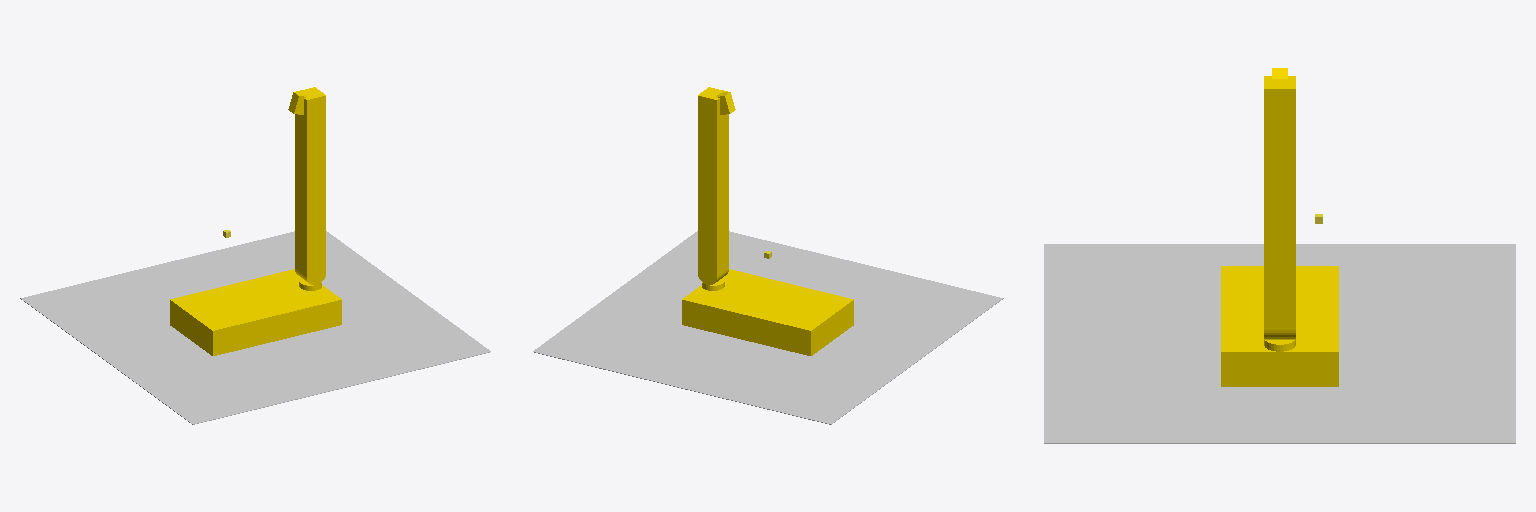
URDF robot description (rover_crane_nbv):
<?xml version="1.0" ?>
<robot name="rover_crane_nbv">

    <material name="black">
        <color rgba="0 0 0 1"/>
    </material>
    <material name="gold">
        <color rgba="1 0.882 0 1"/>
    </material>
    <material name="lunar_surface">
        <color rgba="0.85 0.85 0.85 1"/>
    </material>

<!-- Start Rover -->
    <!-- Base -->
    <link name="rover_base_link">
        <visual>
            <origin xyz="0 0 0.005" rpy="0 0 0" />
            <geometry>
               <box size="6 6 0.01"/>
            </geometry>
            <material name="lunar_surface"/>
        </visual>
        <collision>
            <origin xyz="0 0 0.005" rpy="0 0 0" />
            <geometry>
                <box size="6 6 0.01"/>
            </geometry>
        </collision>   
        
        <visual>
            <origin xyz="0 0 0.25" rpy="0 0 0" />
            <geometry>
               <box size="2.6 1.5 0.5"/>
            </geometry>
            <material name="gold"/>
        </visual>
        <collision>
            <origin xyz="0 0 0.25" rpy="0 0 0" />
            <geometry>
                <box size="2.6 1.5 0.5"/>
            </geometry>
        </collision>   
    </link>
    
    <link name="crane_yaw">
        <visual>
            <origin xyz="0 0 0.05" rpy="0 0 0" />
            <geometry>
               <cylinder length="0.1" radius="0.2"/>
            </geometry>
            <material name="gold"/>
        </visual>
        <collision>
            <origin xyz="0 0 0.05" rpy="0 0 0" />
            <geometry>
                <cylinder length="0.1" radius="0.2"/>
            </geometry>
        </collision>    
    </link>
    
    <joint name="joint0_1" type="revolute">
        <parent link="rover_base_link"/>
        <child link="crane_yaw"/>
        <origin xyz="1.1 0 0.5" rpy="0 0 0"/>
        <axis xyz="0 0 1"/>
        <limit lower="-0.523599" upper="0.523599" effort="0" velocity="0"/>
    </joint>

    <link name="crane_link1">
        <visual>
            <origin xyz="0 0 0" rpy="1.5708 0 0" />
            <geometry>
               <cylinder length="0.4" radius="0.2"/>
            </geometry>
            <material name="gold"/>
        </visual>
        <collision>
            <origin xyz="0 0 0" rpy="1.5708 0 0" />
            <geometry>
                <cylinder length="0.4" radius="0.2"/>
            </geometry>
        </collision>  

        <visual>
            <origin xyz="-1.698 0 0" rpy="0 0 0" />
            <geometry>
               <box size="3.396 0.4 0.4"/>
            </geometry>
            <material name="gold"/>
        </visual>
        <collision>
            <origin xyz="-1.698 0 0" rpy="0 0 0" />
            <geometry>
                <box size="3.396 0.4 0.4"/>
            </geometry>
        </collision>
    </link>


    <joint name="joint0_2" type="revolute">
        <parent link="crane_yaw"/> 
        <child link="crane_link1"/>
        <origin xyz="0 0 0.3" rpy="0 1.5708 0"/>
        <axis xyz="0 1 0"/>
        <limit lower="0.0" upper="1.5708" effort="0" velocity="0"/>
    </joint>


    <link name="crane_link2">
        <visual>
            <origin xyz="1.132 0 0" rpy="0 0 0" />
            <geometry>
               <box size="2.264 0.2 0.2"/>
            </geometry>
            <material name="gold"/>
        </visual>
        <collision>
            <origin xyz="1.132 0 0" rpy="0 0 0" />
            <geometry>
                <box size="2.264 0.2 0.2"/>
            </geometry>
        </collision>
    </link>

    <joint name="joint0_3" type="prismatic">
        <parent link="crane_link1"/>
        <child link="crane_link2"/>
        <origin xyz="-3.396 0 0" rpy="0 0 0"/>
        <axis xyz="-1 0 0"/>
        <limit lower="0.0" upper="2.264" effort="0" velocity="0"/>
    </joint>
    
    <link name="tip">
        <visual>
            <!-- z = (-0.17 - 0.1) -->
            <origin xyz="-0.1 0 -0.17" rpy="0 1.5708 0" />
            <geometry>
               <box size="0.34 0.2 0.2"/>
            </geometry>
            <material name="gold"/>
        </visual>
        <collision>
            <origin xyz="-0.1 0 -0.17" rpy="0 1.5708 0" />
            <geometry>
                <box size="0.34 0.2 0.2"/>
            </geometry>
        </collision>   
    </link>

    <joint name="tip_joint" type="fixed">
        <parent link="crane_link2"/>
        <child link="tip"/>
        <origin xyz="0 0 -0.1" rpy="0 -1.26165662836 0"/>
    </joint>

<!-- START NBV -->
  <link name="base_link">
    <visual>
      <origin xyz="0 0 0" rpy="0 0 0" />
      <geometry>
        <mesh filename="package://../nbv/urdf/stl/mount.stl" />
      </geometry>
    </visual>
    <collision>
      <origin xyz="0 0 0" rpy="0 0 0" />
      <geometry>
        <mesh filename="package://../nbv/urdf/stl/mount.stl" />
      </geometry>
    </collision>

    <!-- 
    <inertial>
      <mass value="0.1" />
      <inertia ixx="0.03" iyy="0.03" izz="0.03" ixy="0.0" ixz="0.0" iyz="0.0" />
    </inertial>
    -->
  </link>

<!-- CHANGE WHERE NBV IS PLACED HERE -->
<!-- NBV ATTACHED TO ARM TIP
    <joint name="nbv_rover_fix" type="fixed">
        <parent link="tip"/>
        <child link="base_link"/>
        <origin xyz="0 0 0" rpy="0 0 0"/>
    </joint>
-->
<!-- <box size="2.4 1.5 0.5"/> -->
<!-- NBV ATTACHED TO ROVER DECK
    <joint name="nbv_rover_fix" type="fixed">
        <parent link="rover_base_link"/>
        <child link="base_link"/>
        <origin xyz="0 0 0.5" rpy="0 0 0"/>
    </joint>
-->
<!-- NBV ATTACHED TO ROVER FRONT BUMPER -->

    <joint name="nbv_rover_fix" type="fixed">
        <parent link="rover_base_link"/>
        <child link="base_link"/>
        <origin xyz="-1.0 0.5 0.5" rpy="0 0 0"/>
    </joint>

  
  <!-- Base-Seg1 -->
  <link name="base-seg1">
    <visual>
      <origin xyz="0 0 -0.2491" rpy="0 0 -1.57079632679" />
      <geometry>
        <mesh filename="package://../nbv/urdf/stl/mount-seg1.stl" />
      </geometry>
    </visual>
    <collision>
      <origin xyz="0 0 -0.2491" rpy="0 0 -1.57079632679" />
      <geometry>
        <mesh filename="package://../nbv/urdf/stl/mount-seg1.stl" />
      </geometry>
    </collision>
    <inertial>
      <mass value="0.1" />
      <inertia ixx="0.03" iyy="0.03" izz="0.03" ixy="0.0" ixz="0.0" iyz="0.0" />
    </inertial>
  </link>
  <joint name="joint1" type="revolute">
    <parent link="base_link" />
    <child link="base-seg1" />
    <origin xyz="0 0 0.2872" rpy="0 0 0" />
    <axis xyz="0 0 1" />
    <limit effort="300" velocity="0.25" lower="-3.14159" upper="3.14159" />
  </joint>
  
  
  <!-- Seg1 -->
  <link name="seg1">
    <visual>
      <origin xyz="0 0 0" rpy="0 1.57079632679 -1.57079632679" />
      <geometry>
        <mesh filename="package://../nbv/urdf/stl/seg1.stl" />
      </geometry>
    </visual>
    <collision>
      <origin xyz="0 0 0" rpy="0 1.57079632679 -1.57079632679" />
      <geometry>
        <mesh filename="package://../nbv/urdf/stl/seg1.stl" />
      </geometry>
    </collision>

    <inertial>
      <mass value="0.1" />
      <inertia ixx="0.03" iyy="0.03" izz="0.03" ixy="0.0" ixz="0.0" iyz="0.0" />
    </inertial>

  </link>
  <joint name="joint2" type="revolute">
    <parent link="base-seg1" />
    <child link="seg1" />
    <origin xyz="0 0 0" rpy="1.57079632679 0 0" />
    <axis xyz="0 0 1" />
    <limit effort="300" velocity="0.25" lower="-0.785" upper="3.925" />
  </joint>
  <!-- Seg1-Seg2 -->
  <link name="seg1-seg2">
    <visual>
      <origin xyz="0 0 0" rpy="0 1.57079632679 0" />
      <geometry>
        <mesh filename="package://../nbv/urdf/stl/seg1-seg2.stl" />
      </geometry>
    </visual>
    <collision>
      <origin xyz="0 0 0" rpy="0 1.57079632679 0" />
      <geometry>
        <mesh filename="package://../nbv/urdf/stl/seg1-seg2.stl" />
      </geometry>
    </collision>

    <inertial>
      <mass value="0.1" />
      <inertia ixx="0.03" iyy="0.03" izz="0.03" ixy="0.0" ixz="0.0" iyz="0.0" />
    </inertial>

  </link>
  <joint name="joint3" type="revolute">
    <parent link="seg1" />
    <child link="seg1-seg2" />
    <origin xyz="0.5589 0 0" rpy="3.14159265359 0 0" />
    <axis xyz="0 0 1" />
    <limit effort="300" velocity="0.25" lower="-1.5707" upper="1.5707" />
  </joint>
  <!-- Seg2 -->
  <link name="seg2">
    <visual>
      <origin xyz="0 0 -0.4368" rpy="0 0 1.57079632679" />
      <geometry>
        <mesh filename="package://../nbv/urdf/stl/seg2.stl" />
      </geometry>
    </visual>
    <collision>
      <origin xyz="0 0 -0.4368" rpy="0 0 1.57079632679" />
      <geometry>
        <mesh filename="package://../nbv/urdf/stl/seg2.stl" />
      </geometry>
    </collision>

    <inertial>
      <mass value="0.1" />
      <inertia ixx="0.03" iyy="0.03" izz="0.03" ixy="0.0" ixz="0.0" iyz="0.0" />
    </inertial>

  </link>
  <joint name="joint4" type="continuous">
    <parent link="seg1-seg2" />
    <child link="seg2" />
    <origin xyz="0.15140 -0.5388 0" rpy="1.57079632679 0 0" />
    <axis xyz="0 0 1" />
    <limit effort="300" velocity="0.25" lower="-3.14159" upper="3.14159" />
  </joint>
  <!-- End -->
  <link name="end">
    <visual>
      <origin xyz="0 0 0" rpy="0 1.57079632679 -1.57079632679" />
      <geometry>
        <mesh filename="package://../nbv/urdf/stl/end.stl" />
      </geometry>
    </visual>
    <collision>
      <origin xyz="0 0 0" rpy="0 1.57079632679 -1.57079632679" />
      <geometry>
        <mesh filename="package://../nbv/urdf/stl/end.stl" />
      </geometry>
    </collision>

    <inertial>
      <mass value="0.1" />
      <inertia ixx="0.03" iyy="0.03" izz="0.03" ixy="0.0" ixz="0.0" iyz="0.0" />
    </inertial>

  </link>
  <joint name="joint5" type="revolute">
    <parent link="seg2" />
    <child link="end" />
    <origin xyz="0 0 0" rpy="-1.57079632679 0 0" />
    <axis xyz="0 0 1" />
    <limit effort="300" velocity="0.25" lower="-1.78" upper="1.78" />
  </joint>
  <!-- Manipulator -->
  <!-- Another joint for the rotation of whatever is attached to the end of NBV.
    As there is no model for this, it's currently just a big cube when uncommented. -->
  <link name="manip">
    <visual>
      <origin xyz="0 0 0.3" rpy="0 0 0" />
      <geometry>
        <box size="0.1 0.1 0.1" />
      </geometry>
    </visual>
    <collision>
      <origin xyz="0 0 0.3" rpy="0 0 0" />
      <geometry>
        <box size="0.1 0.1 0.1" />
      </geometry>
    </collision>

    <inertial>
      <mass value="0.1" />
      <inertia ixx="0.03" iyy="0.03" izz="0.03" ixy="0.0" ixz="0.0" iyz="0.0" />
    </inertial>

  </link>
  <joint name="joint6" type="continuous">
    <parent link="end" />
    <child link="manip" />
    <origin xyz="0 0 0" rpy="1.57079632679 0 0" />
    <axis xyz="0 0 1" />
    <limit effort="300" velocity="0.25" lower="-6.28" upper="6.28" />
  </joint>

</robot>

--- What the picture shows (computed from the rendered views, not written in the file) ---
The picture shows the robot from 3 angles, left to right: view 1: azimuth 30°, elevation 25°; view 2: azimuth 150°, elevation 25°; view 3: azimuth 270°, elevation 25°; orthographic projection.
Robot: rover_crane_nbv — 12 links, 11 joints (6 revolute, 2 continuous, 1 prismatic, 2 fixed); root link rover_base_link; default pose: every joint at zero.
Links seen in each view (by area): view 1: rover_base_link, crane_link1; view 2: rover_base_link, crane_link1; view 3: rover_base_link, crane_link1.
Link boxes in pixels (<box>): rover_base_link: <box>20,231,490,424</box>; crane_link1: <box>295,87,325,284</box>; rover_base_link: <box>533,231,1003,424</box>; crane_link1: <box>698,87,728,284</box>; rover_base_link: <box>1044,244,1515,443</box>; crane_link1: <box>1264,76,1295,339</box>.
Size in the robot's own frame: 6 by 6 by 4.26 metres.
Geometry: only primitive shapes (box / cylinder / sphere) drawn; not drawn: 6 mesh visuals (reference in a form the renderer does not follow).